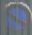No waiting: (0, 1, 31, 33)
